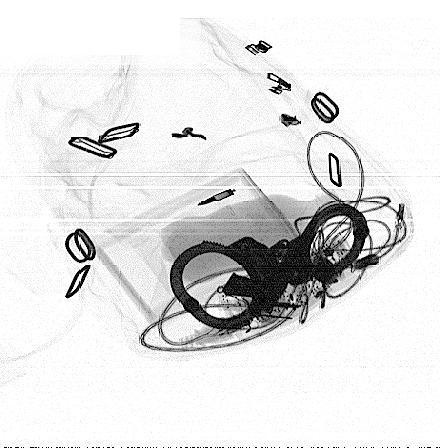Bullet: (197, 189, 233, 205)
Gun: (218, 237, 310, 302)
HandCuffs: (168, 202, 373, 333)
